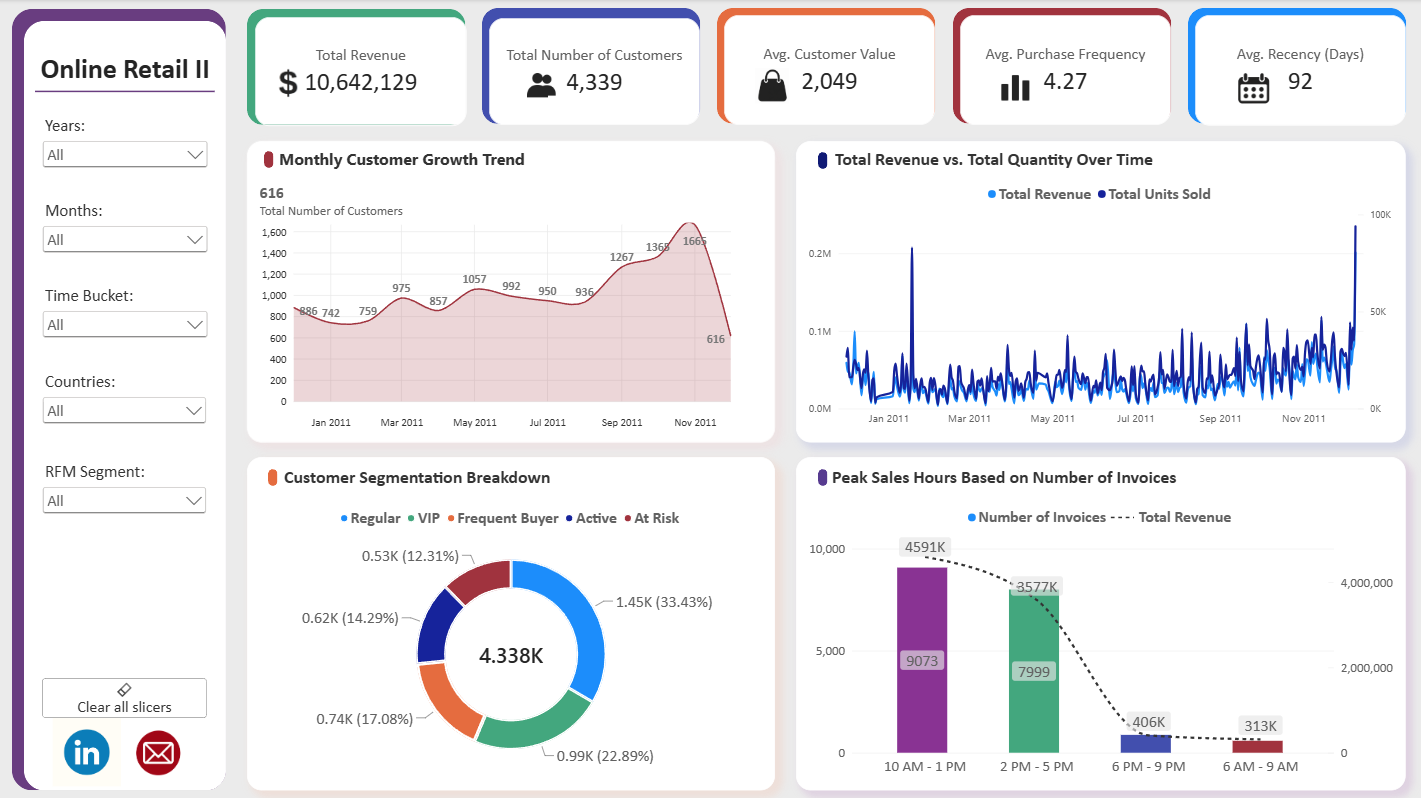

The dashboard page shown, as its layout file describes it:
{"tool":"powerbi","page":{"name":"Page 1","canvas":[1920,1080],"ordinal":0},"visuals":[{"type":"donutChart","title":" ","fields":{"Category":["dim_customer_rfm.customer_segment"],"Y":["Count(dim_customer_rfm.customer_id)"]},"box":[334.3,617.1,711.4,448.6],"z":0},{"type":"shape","box":[18,14,288,1052],"z":1000},{"type":"shape","box":[34,30,272,1036],"z":2000},{"type":"textbox","box":[46,70,248,56],"z":3000},{"type":"shape","box":[48,80,242,90],"z":4000},{"type":"slicer","fields":{"Values":["fact_transactions.invoice_year"]},"box":[54,156,232,100],"z":5000},{"type":"slicer","fields":{"Values":["fact_transactions.time_of_day_bucket"]},"box":[53.9,385.1,231.6,92.9],"z":6000},{"type":"shape","box":[334,14,294,156],"z":7000},{"type":"slicer","fields":{"Values":["fact_transactions.country"]},"box":[53.9,500.9,230.3,99.7],"z":8000},{"type":"lineClusteredColumnComboChart","title":" ","fields":{"Category":["fact_transactions.time_of_day_bucket"],"Y":["Count(fact_transactions.invoice_no)"],"Y2":["Sum(fact_transactions.total_price)"]},"box":[1072.9,617.1,821.4,448.6],"z":9000},{"type":"shape","box":[650.6,12.3,294,156],"z":10000},{"type":"cardVisual","title":"Total Revenue","fields":{"Data":["Sum(fact_transactions.total_price)"]},"box":[344.7,24.2,285,146.8],"z":11000},{"type":"cardVisual","fields":{"Data":["Count(fact_transactions.customer_id)"]},"box":[660.1,25.2,284.2,144.1],"z":12000},{"type":"powerKPI462CE5C2666F4EC8A8BDD7E5587320A3","title":" ","fields":{"Values":["Count(fact_transactions.customer_id)"],"Axis":["fact_transactions.invoice_year_month"]},"box":[334.3,191.4,711.4,405.7],"z":13000},{"type":"textbox","box":[1115.7,628.6,520,32.9],"z":14000},{"type":"shape","box":[1102.9,632.9,12.9,22.9],"z":15000},{"type":"textbox","box":[384.3,628.6,372.9,35.7],"z":16000},{"type":"shape","box":[362.9,632.9,12.9,22.9],"z":17000},{"type":"textbox","box":[377.1,200,387.1,38.6],"z":18000},{"type":"shape","box":[357.1,204.3,12.9,22.9],"z":19000},{"type":"lineChart","title":" ","fields":{"Category":["fact_transactions.invoice_date.Variation.Date Hierarchy.Year","fact_transactions.invoice_date.Variation.Date Hierarchy.Quarter","fact_transactions.invoice_date.Variation.Date Hierarchy.Month","fact_transactions.invoice_date.Variation.Date Hierarchy.Day"],"Y":["Sum(fact_transactions.total_price)"],"Y2":["Sum(fact_transactions.quantity)"]},"box":[1072.9,191.4,821.4,405.7],"z":20000},{"type":"shape","box":[1102.9,205.7,12.9,22.9],"z":21000},{"type":"textbox","box":[1125.7,200,448.6,28.6],"z":22000},{"type":"slicer","fields":{"Values":["dim_customer_rfm.customer_segment"]},"box":[53.9,622.1,230.3,79.5],"z":23000},{"type":"shape","box":[966.9,12,293.9,155.6],"z":24000},{"type":"shape","box":[1284.8,12,293.9,155.6],"z":25000},{"type":"shape","box":[1601.4,12,293.9,155.6],"z":26000},{"type":"slicer","fields":{"Values":["fact_transactions.invoice_month"]},"box":[53.9,270.7,231.6,99.7],"z":27000},{"type":"cardVisual","title":"Total Revenue","fields":{"Data":["Avg(dim_customer_rfm.monetary)"]},"box":[976.3,21.5,284.1,148.1],"z":28000},{"type":"cardVisual","title":"Total Revenue","fields":{"Data":["Avg(dim_customer_rfm.frequency)"]},"box":[1294.1,21.5,284.1,148.1],"z":29000},{"type":"cardVisual","title":"Total Revenue","fields":{"Data":["Avg(dim_customer_rfm.recency_days)"]},"box":[1610.6,21.5,284.1,149.5],"z":30000},{"type":"actionButton","box":[57.9,914.4,222.2,53.9],"z":31000},{"type":"image","box":[704.3,90.2,52.5,47.1],"z":32000},{"type":"image","box":[369,88.9,33.7,47.1],"z":33000},{"type":"image","box":[1331.8,84.8,68.7,59.3],"z":34000},{"type":"image","box":[1005.9,92.9,70,48.5],"z":35000},{"type":"image","box":[1638.9,84.8,102.3,70],"z":36000},{"type":"image","box":[166,974,98,82],"z":37000},{"type":"image","box":[68,968,102,92],"z":38000}]}

Visuals, with their boxes in screenshot pixels (x1, y1, x2, y2), scaled from the page's 1920x1080 canvas onto the 1421x798 screenshot:
" " donutChart: 247, 456, 774, 787
shape: 13, 10, 226, 788
shape: 25, 22, 226, 788
textbox: 34, 52, 218, 93
shape: 36, 59, 215, 126
slicer - fact_transactions.invoice_year: 40, 115, 212, 189
slicer - fact_transactions.time_of_day_bucket: 40, 285, 211, 353
shape: 247, 10, 465, 126
slicer - fact_transactions.country: 40, 370, 210, 444
" " lineClusteredColumnComboChart: 794, 456, 1402, 787
shape: 482, 9, 699, 124
"Total Revenue" cardVisual: 255, 18, 466, 126
cardVisual - Count(fact_transactions.customer_id): 489, 19, 699, 125
" " powerKPI462CE5C2666F4EC8A8BDD7E5587320A3: 247, 141, 774, 441
textbox: 826, 464, 1211, 489
shape: 816, 468, 826, 485
textbox: 284, 464, 560, 491
shape: 269, 468, 278, 485
textbox: 279, 148, 566, 176
shape: 264, 151, 274, 168
" " lineChart: 794, 141, 1402, 441
shape: 816, 152, 826, 169
textbox: 833, 148, 1165, 169
slicer - dim_customer_rfm.customer_segment: 40, 460, 210, 518
shape: 716, 9, 933, 124
shape: 951, 9, 1168, 124
shape: 1185, 9, 1403, 124
slicer - fact_transactions.invoice_month: 40, 200, 211, 274
"Total Revenue" cardVisual: 723, 16, 933, 125
"Total Revenue" cardVisual: 958, 16, 1168, 125
"Total Revenue" cardVisual: 1192, 16, 1402, 126
actionButton: 43, 676, 207, 715
image: 521, 67, 560, 101
image: 273, 66, 298, 100
image: 986, 63, 1037, 106
image: 744, 69, 796, 104
image: 1213, 63, 1289, 114
image: 123, 720, 195, 780
image: 50, 715, 126, 783
